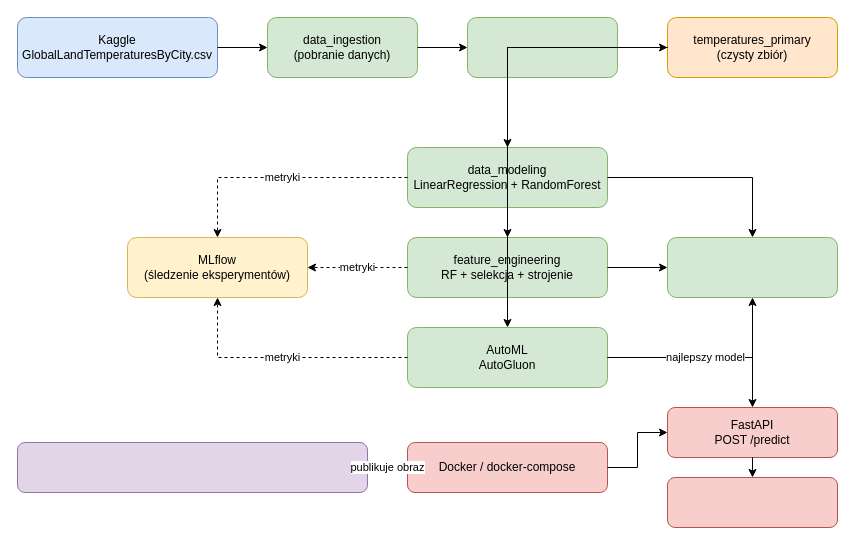
This 855x545 diagram has some shape labels left out. Each missing label, with the centre of its shape:
"data_preparation (czyszczenie)" belongs at pixel 542 47.
"evaluation wspólny ranking modeli" belongs at pixel 752 267.
"GitHub Actions CI (testy + linting) · CD (obraz Docker) · Continuous Training" belongs at pixel 192 467.
"Prometheus /metrics + drift" belongs at pixel 752 502.
